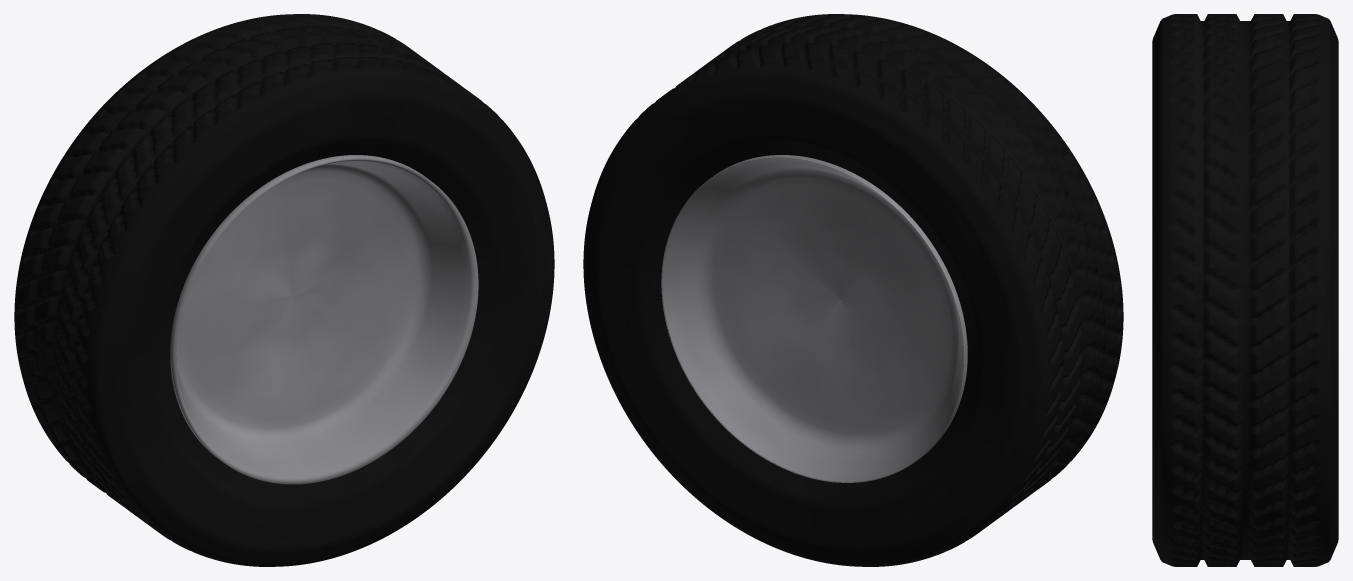
File: tire_L3.glb
3 renders of one model, left to right at view 1: azimuth 30°, elevation 25°; view 2: azimuth 150°, elevation 25°; view 3: azimuth 270°, elevation 25°, orthographic. The views are drawn at different scales.
Visible parts, largest first — view 1: tire, rim; view 2: tire, rim; view 3: tire.
Part boxes in pixels (x1=…): tire: x1=14, y1=14, x2=554, y2=566; rim: x1=170, y1=155, x2=478, y2=484; tire: x1=583, y1=14, x2=1123, y2=566; rim: x1=661, y1=155, x2=967, y2=482; tire: x1=1152, y1=14, x2=1338, y2=566.
Size of the model in its own units: 0.632 by 0.632 by 0.213.
2 materials, 2 textured.
